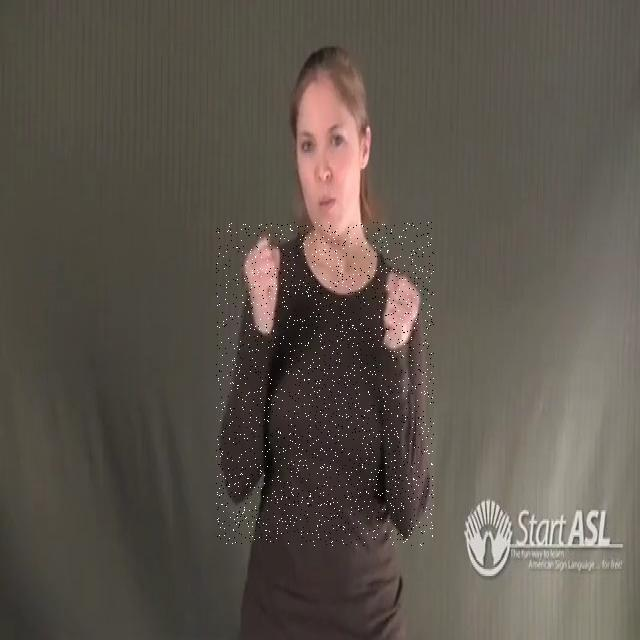cold: (216, 222, 434, 546)
